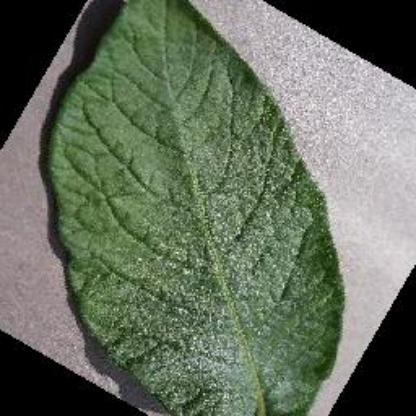Healthy-plant: (23, 4, 360, 416)
